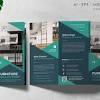paper: (0, 0, 100, 90)
